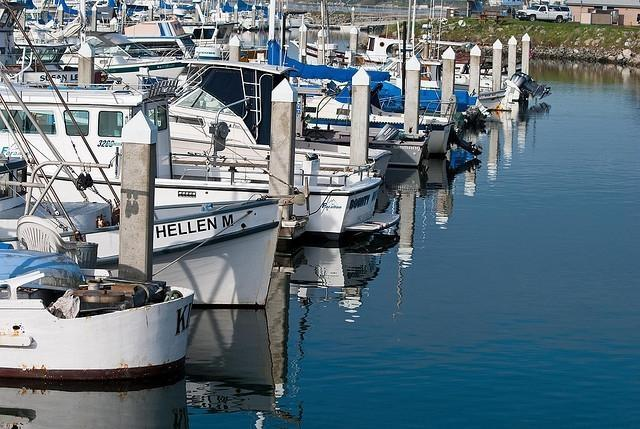truck: (516, 3, 570, 22)
